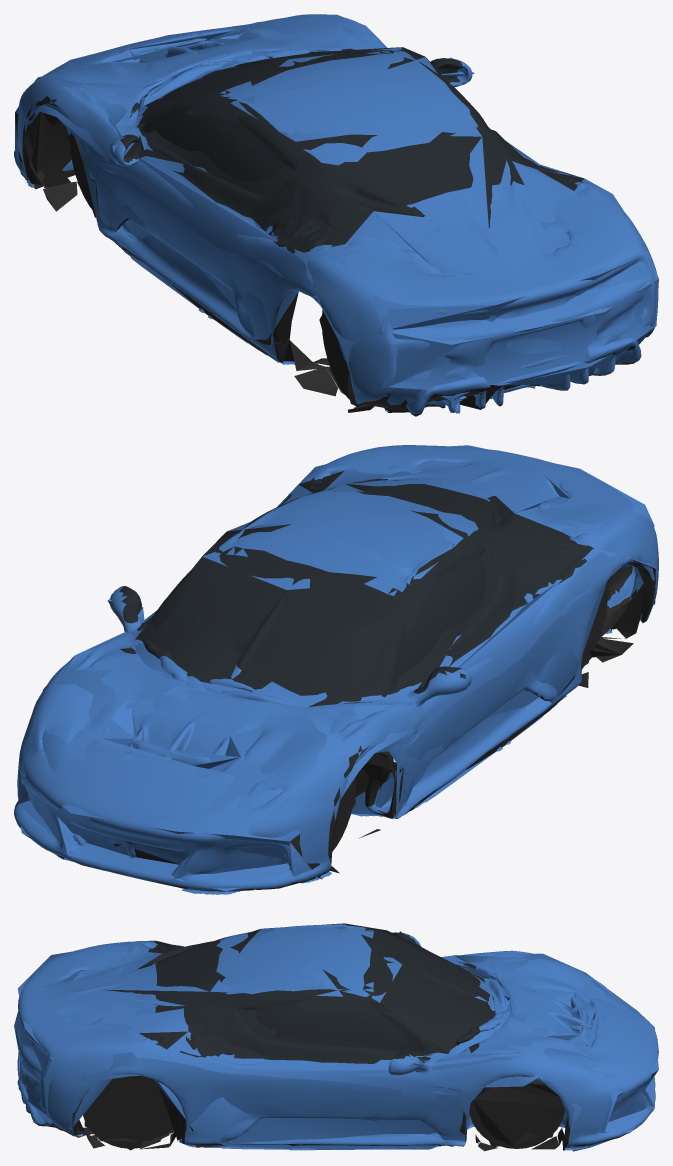
File: maserati-gt2-stradale.glb
The picture shows the model from 3 angles, top to bottom: view 1: azimuth 30°, elevation 25°; view 2: azimuth 150°, elevation 25°; view 3: azimuth 270°, elevation 25°; orthographic projection. The views are drawn at different scales.
Parts seen in each view (by area): view 1: body, far; view 2: body, far; view 3: body, far.
Boxes of the visible parts, x1,y1,x2,y2 form: body: [14, 14, 658, 416]; far: [15, 14, 658, 413]; body: [14, 445, 658, 894]; far: [18, 445, 655, 891]; body: [16, 924, 658, 1151]; far: [14, 923, 658, 1151].
Size of the model in its own units: 2.31 by 1.28 by 4.71.
